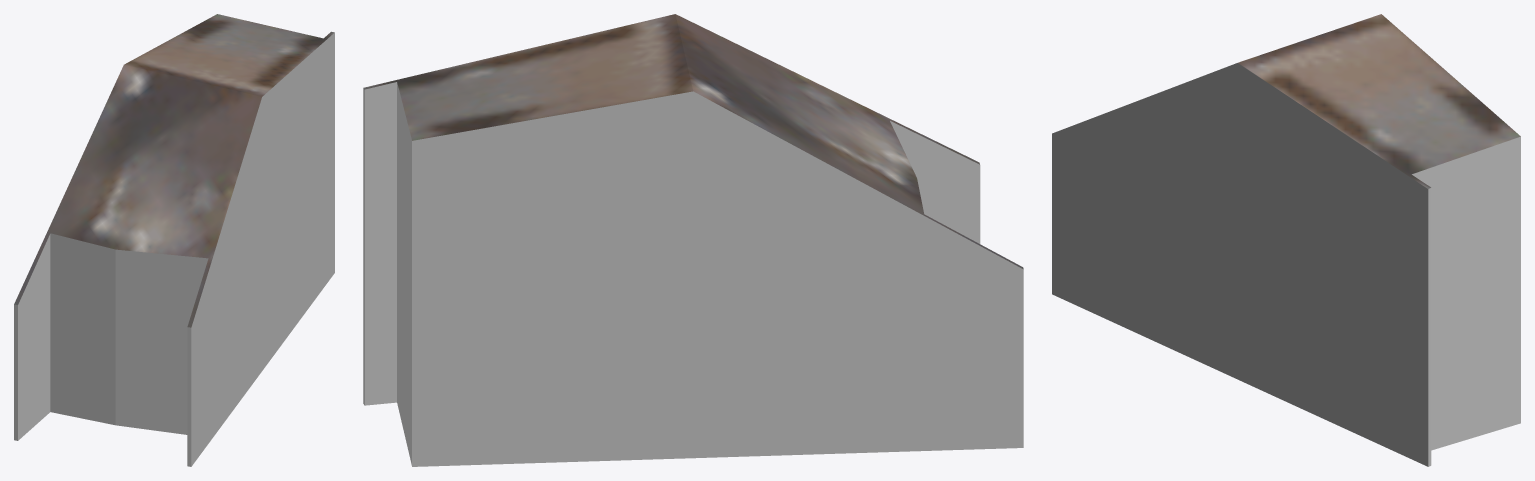
The model's file is DEBW_0010007TvlX.gltf.
3 renders of one model, left to right at view 1: azimuth 30°, elevation 25°; view 2: azimuth 150°, elevation 25°; view 3: azimuth 270°, elevation 25°, orthographic. The views are drawn at different scales.
Visible parts, largest first — view 1: Z_UP; view 2: Z_UP; view 3: Z_UP.
Part boxes in pixels (x1,y1,x2,y2): Z_UP: (14, 14, 334, 466); Z_UP: (363, 14, 1023, 466); Z_UP: (1052, 14, 1520, 466).
Bounding box in the file's own units: 15.81 × 10.25 × 13.5.
Materials: 2 (1 with a texture image).
